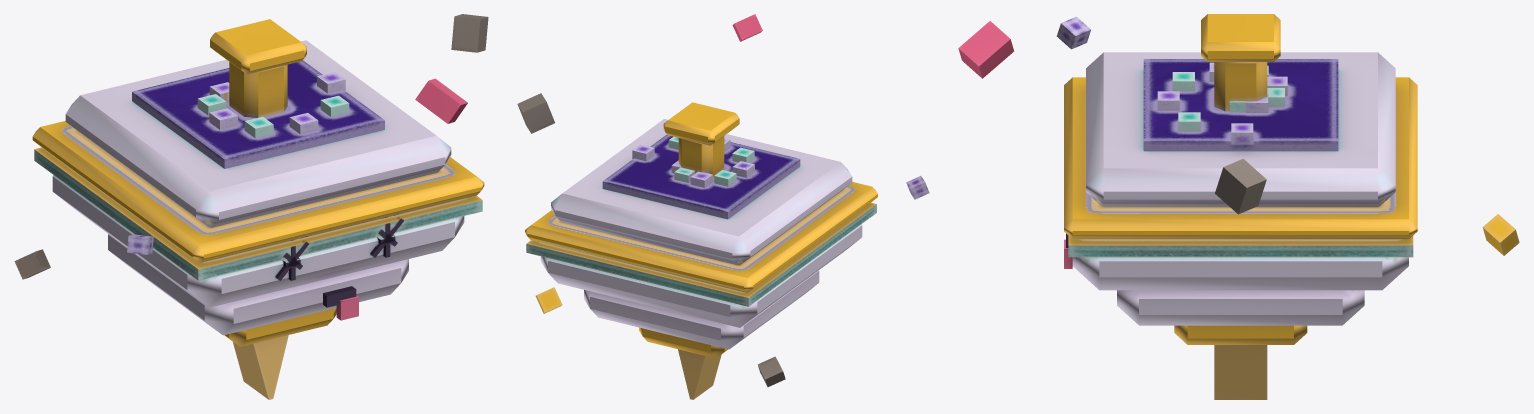
File: ToupieTrouDeVer_Rig.fbx
The picture shows the model from 3 angles, left to right: view 1: azimuth 30°, elevation 25°; view 2: azimuth 150°, elevation 25°; view 3: azimuth 270°, elevation 25°; orthographic projection. The views are drawn at different scales.
Parts seen in each view (by area): view 1: Body, Hole, Debris; view 2: Body, Hole, Debris; view 3: Body, Hole, Debris.
Part boxes in pixels (x1,y1,x2,y2): Body: (32, 19, 484, 399); Hole: (132, 60, 384, 168); Debris: (14, 14, 488, 279); Body: (525, 102, 877, 399); Hole: (602, 134, 800, 219); Debris: (517, 14, 929, 386); Body: (1064, 14, 1417, 399); Hole: (1143, 59, 1338, 151); Debris: (958, 16, 1519, 255).
Size of the model in its own units: 7.26 by 6 by 7.55.
Materials: 1 (1 with a texture image).
